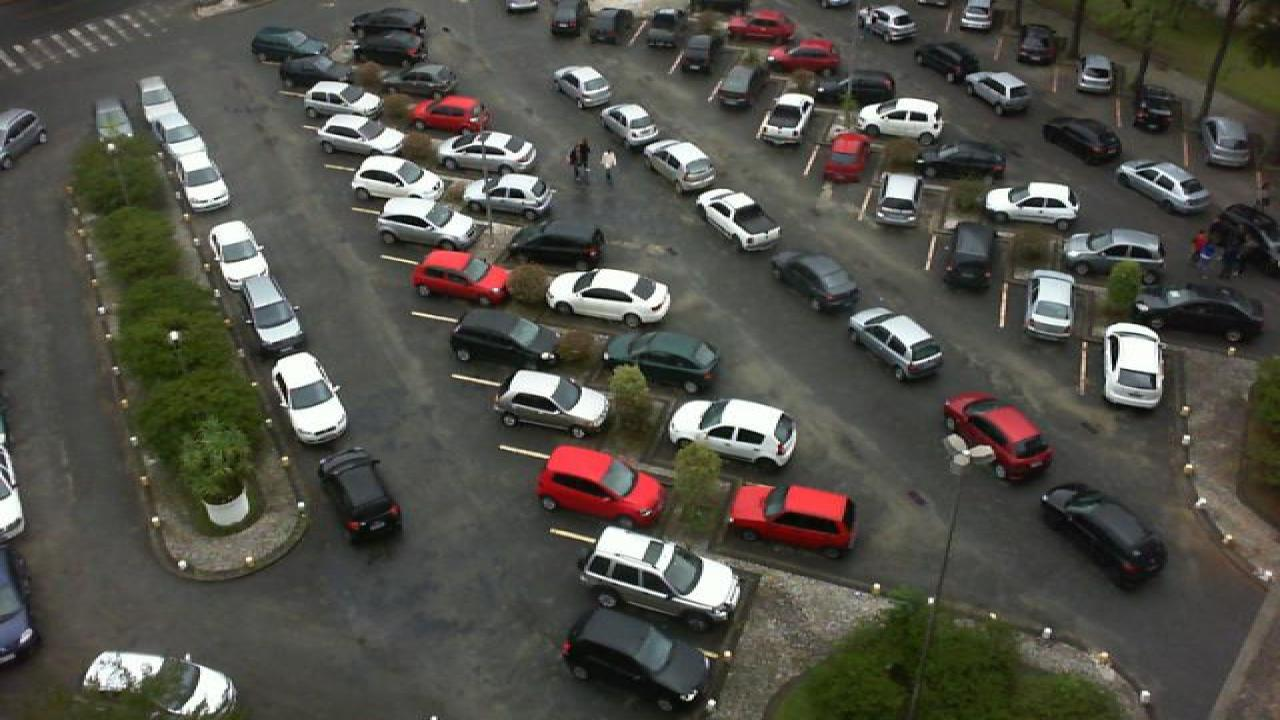Car: (562, 605, 716, 712), (578, 526, 742, 626), (1038, 481, 1170, 592), (534, 444, 666, 531), (78, 651, 240, 719), (666, 397, 800, 477), (942, 391, 1054, 482), (728, 484, 858, 558), (490, 369, 610, 442), (316, 446, 402, 546), (1128, 281, 1266, 340), (602, 330, 722, 393), (546, 268, 674, 327), (268, 352, 350, 444), (846, 307, 944, 381), (450, 307, 562, 368), (410, 249, 514, 308), (694, 188, 784, 252), (376, 197, 480, 252), (772, 252, 862, 315), (1062, 227, 1168, 280), (1102, 323, 1166, 409), (1116, 160, 1212, 215), (508, 218, 608, 270), (238, 276, 302, 356), (436, 129, 540, 178), (350, 154, 446, 203), (982, 181, 1082, 227), (208, 219, 272, 289), (1040, 116, 1126, 165), (944, 221, 1000, 294), (318, 114, 408, 158), (858, 96, 944, 142), (1024, 269, 1078, 342), (912, 140, 1008, 180), (642, 140, 718, 190), (476, 171, 554, 218), (172, 150, 230, 212), (754, 92, 816, 148), (300, 78, 378, 122), (870, 172, 926, 230), (412, 96, 492, 134), (914, 40, 980, 86), (150, 112, 206, 166), (966, 71, 1032, 116), (250, 27, 332, 63), (380, 63, 458, 100), (350, 30, 428, 66), (1204, 114, 1254, 170), (280, 55, 352, 93), (600, 102, 660, 146), (822, 132, 870, 186), (554, 65, 612, 109), (1132, 82, 1180, 134), (772, 38, 840, 74), (824, 70, 898, 103), (134, 75, 180, 126), (348, 8, 428, 37), (858, 4, 916, 42), (726, 8, 794, 40), (680, 31, 728, 76), (716, 64, 760, 112), (1016, 22, 1062, 64), (638, 8, 680, 46), (586, 7, 628, 44), (1078, 54, 1114, 96), (550, 0, 586, 35), (956, 0, 992, 32)
